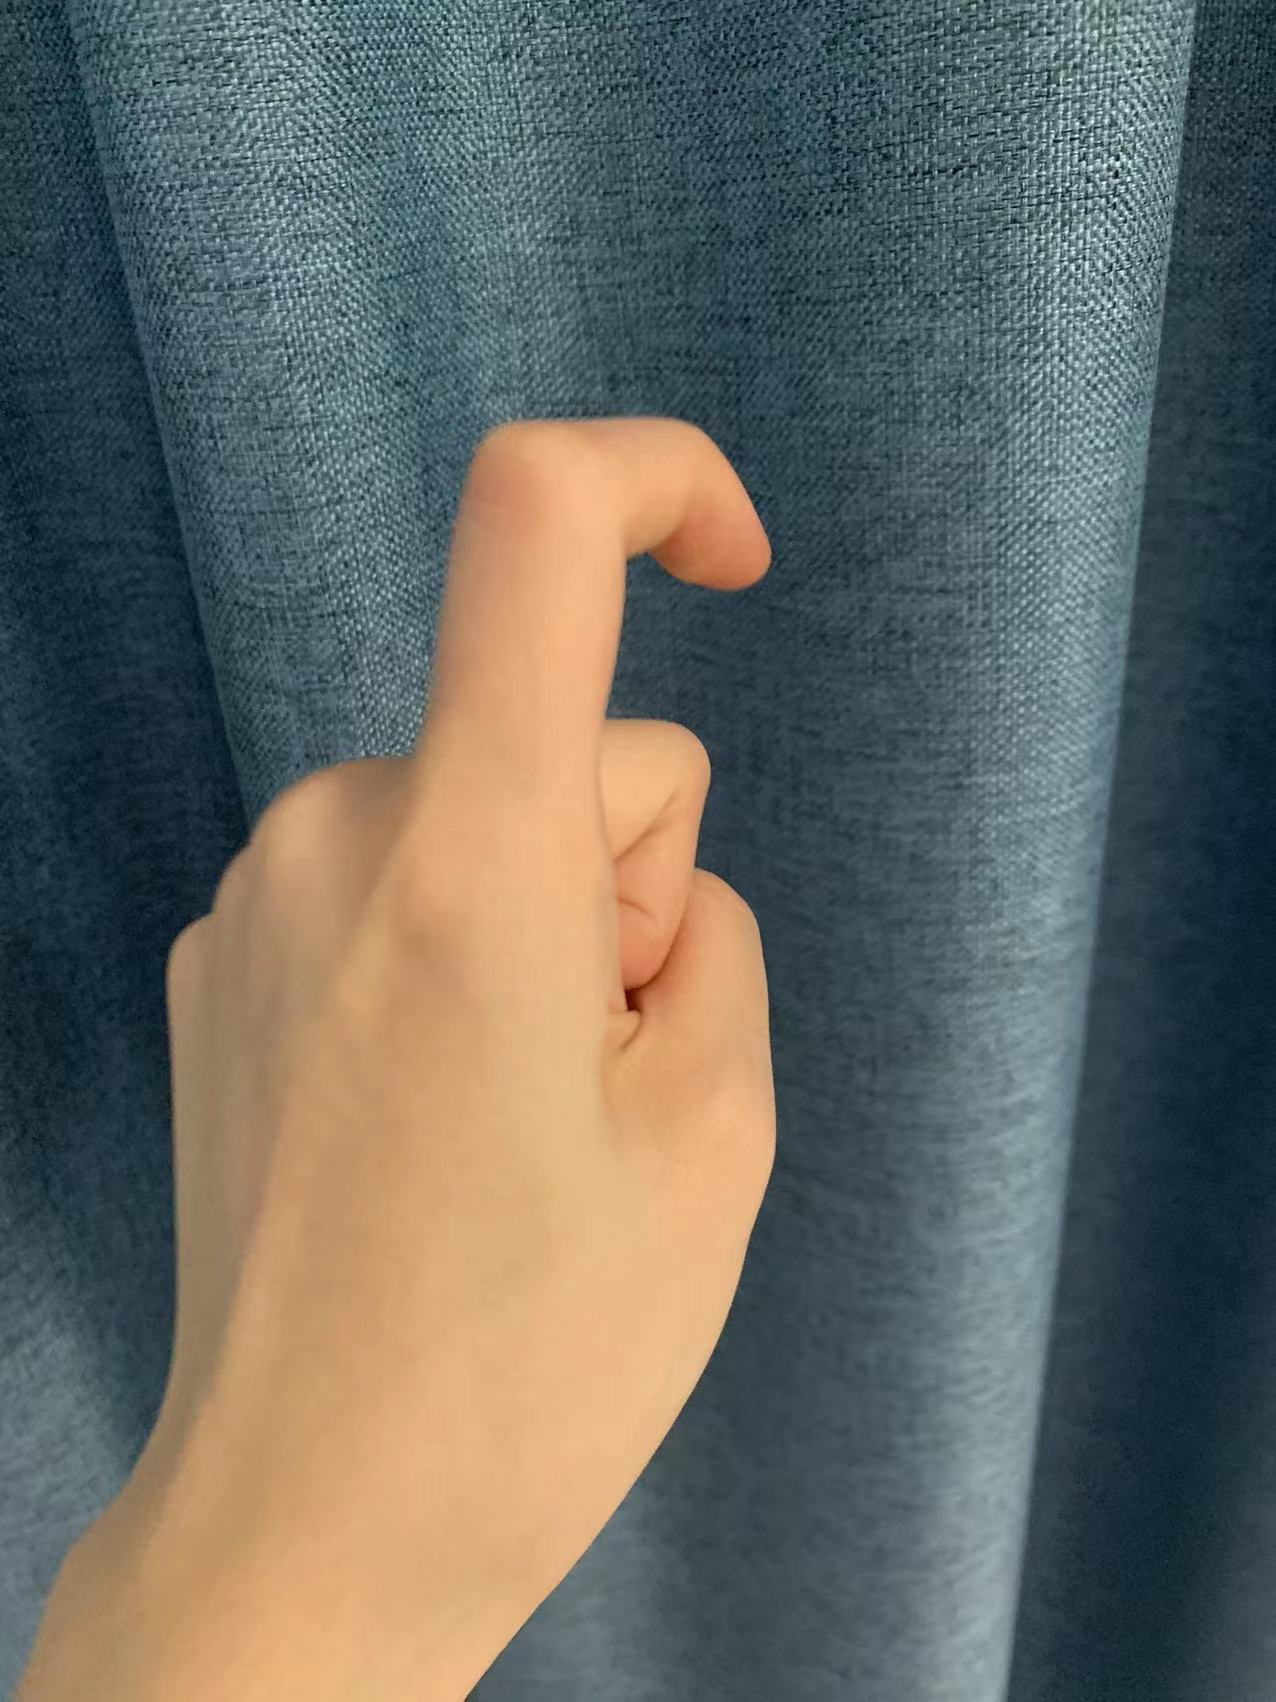anticlockwise: (139, 409, 836, 1476)
